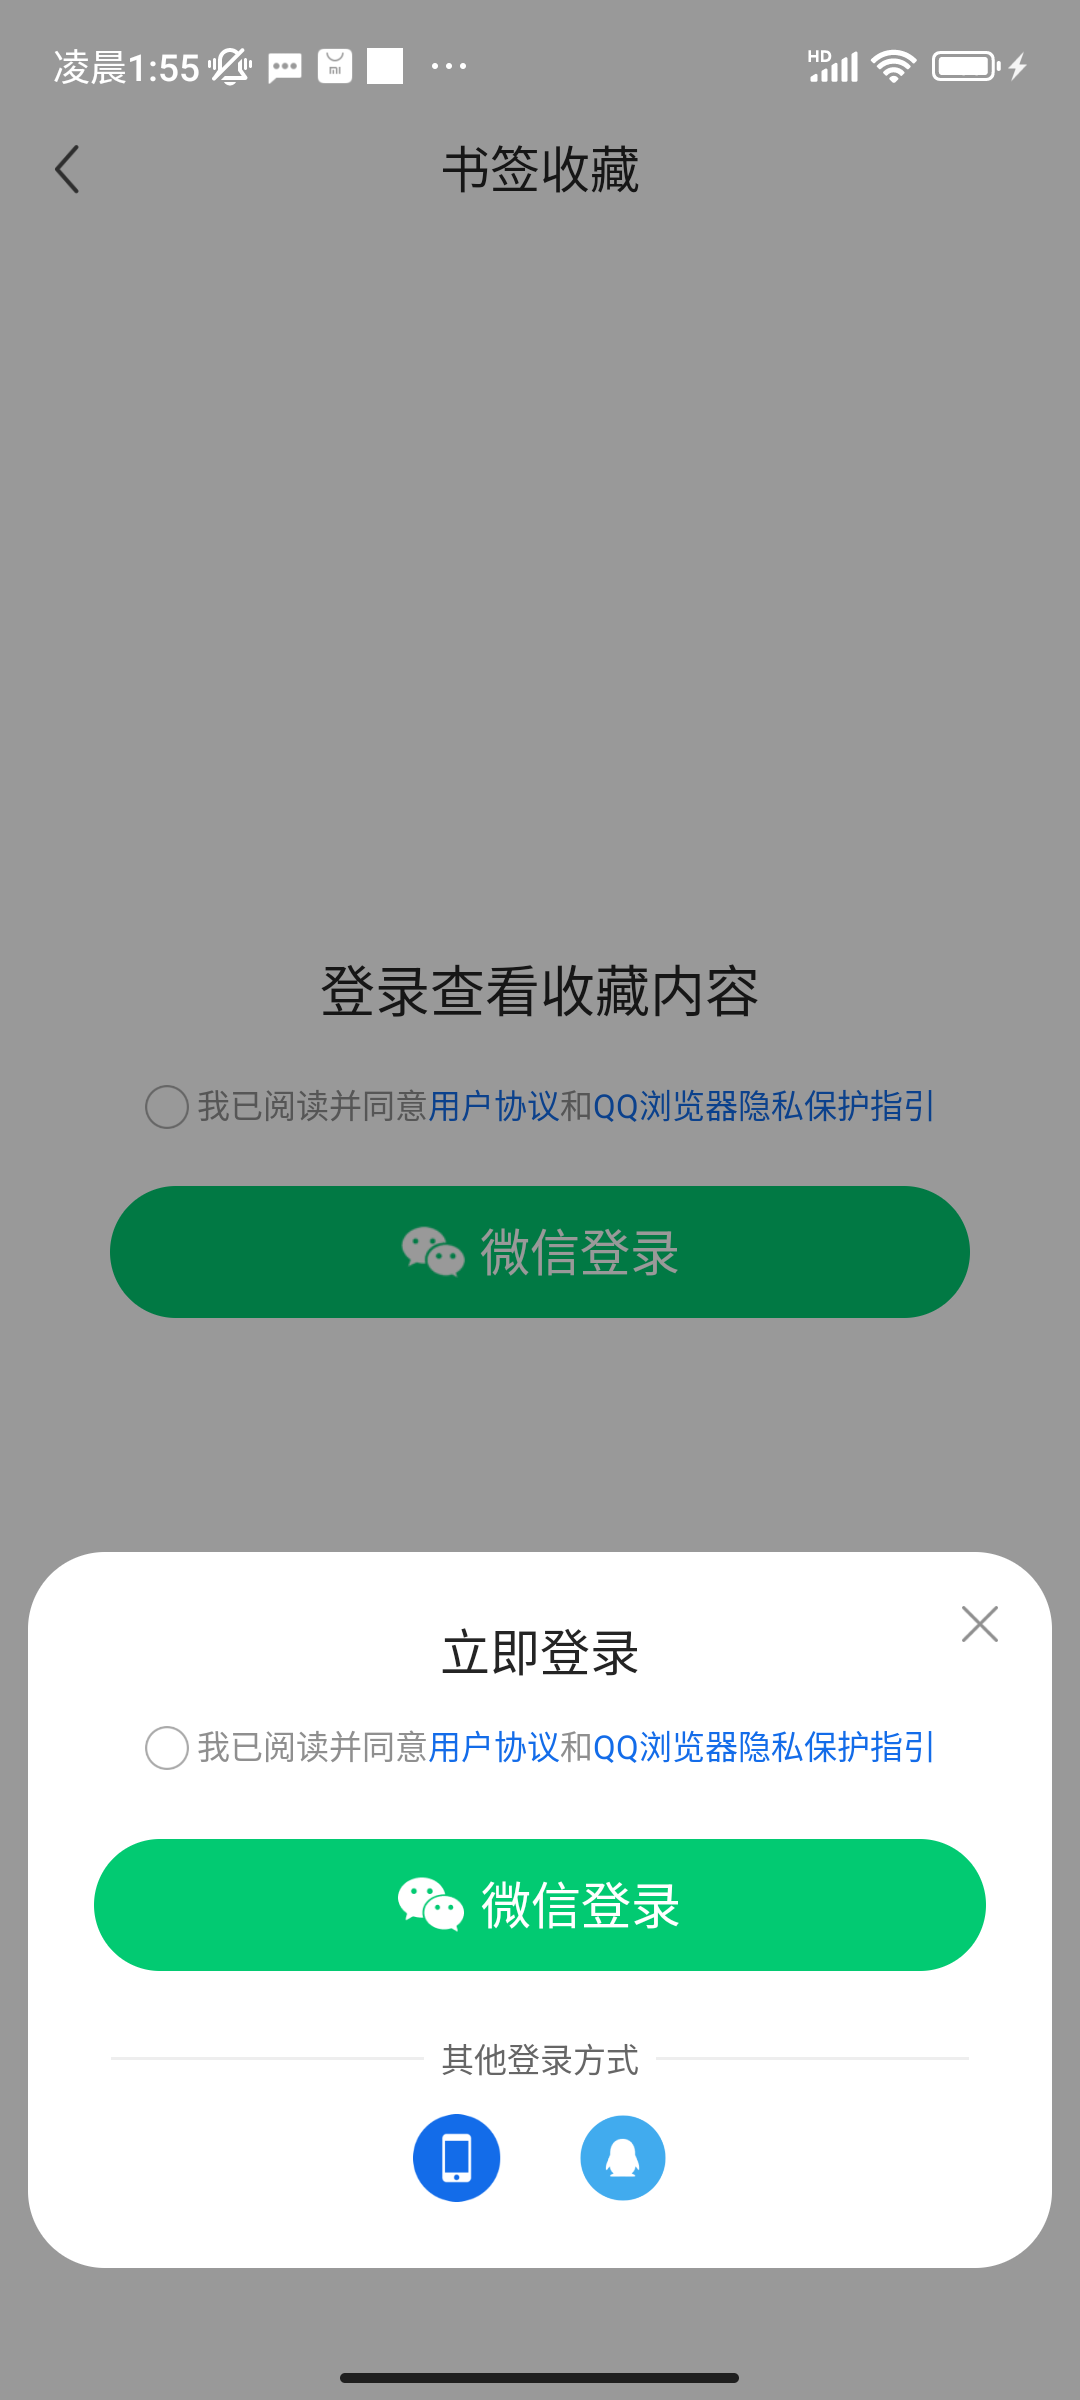ui_group: (46, 1573, 1033, 2230)
